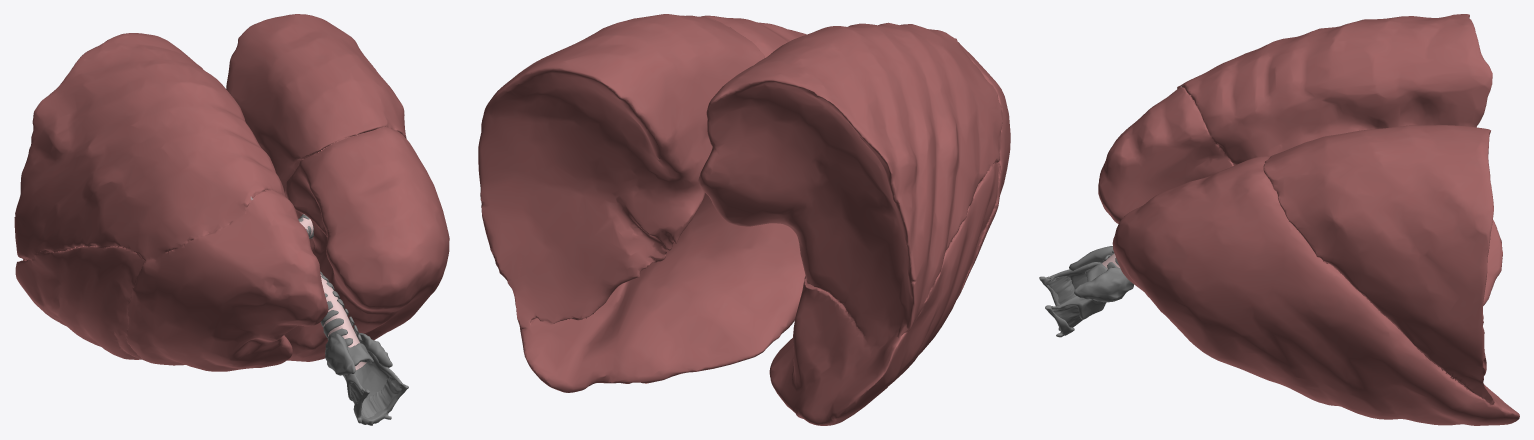
The model's file is longen met bronchiaalboom.fbx.
The picture shows the model from 3 angles, left to right: view 1: azimuth 30°, elevation 25°; view 2: azimuth 150°, elevation 25°; view 3: azimuth 270°, elevation 25°; orthographic projection. The views are drawn at different scales.
Visible parts, largest first — view 1: Linkerlong, Hyoid_bone, Thyroid_gland, Tussen_hyoid_en_thyroid, bronchi1, Trachea_kraakbeen; view 2: Linkerlong; view 3: Linkerlong, Thyroid_gland, Hyoid_bone, Tussen_hyoid_en_thyroid.
Part boxes in pixels (x1,y1,x2,y2): Linkerlong: (14,14,449,371); Hyoid_bone: (343,343,408,425); Thyroid_gland: (325,333,392,375); Tussen_hyoid_en_thyroid: (350,377,403,418); bronchi1: (299,214,366,370); Trachea_kraakbeen: (298,214,362,346); Linkerlong: (478,14,1010,425); Linkerlong: (1098,14,1519,425); Thyroid_gland: (1069,246,1133,302); Hyoid_bone: (1039,261,1107,337); Tussen_hyoid_en_thyroid: (1046,276,1082,327).
Bounding box in the file's own units: 297 × 243 × 323.
